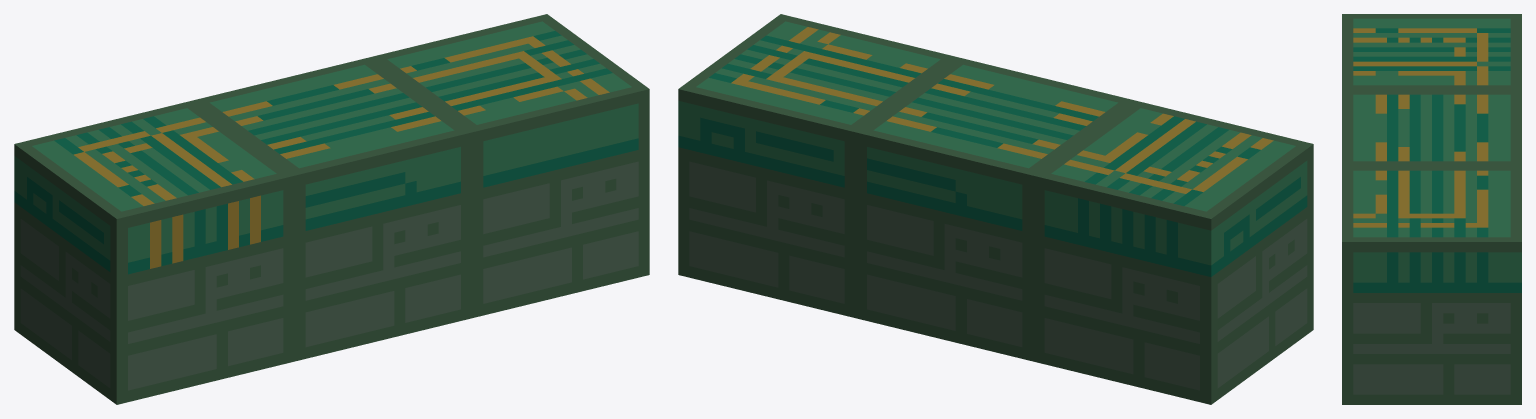
Rendered from m_tiles_1_3x1.fbx.
3 views of the same model, side by side, from view 1: azimuth 30°, elevation 25°; view 2: azimuth 150°, elevation 25°; view 3: azimuth 270°, elevation 25° (orthographic). The views are drawn at different scales.
Parts seen in each view (by area): view 1: m_tiles_1_3x1; view 2: m_tiles_1_3x1; view 3: m_tiles_1_3x1.
Part boxes in pixels (left/top/right/bottom): m_tiles_1_3x1: left=14, top=14, right=649, bottom=404; m_tiles_1_3x1: left=678, top=14, right=1313, bottom=404; m_tiles_1_3x1: left=1342, top=14, right=1521, bottom=404.
Bounding box in the file's own units: 4.8 × 1.6 × 1.6.
1 material, 1 textured.
